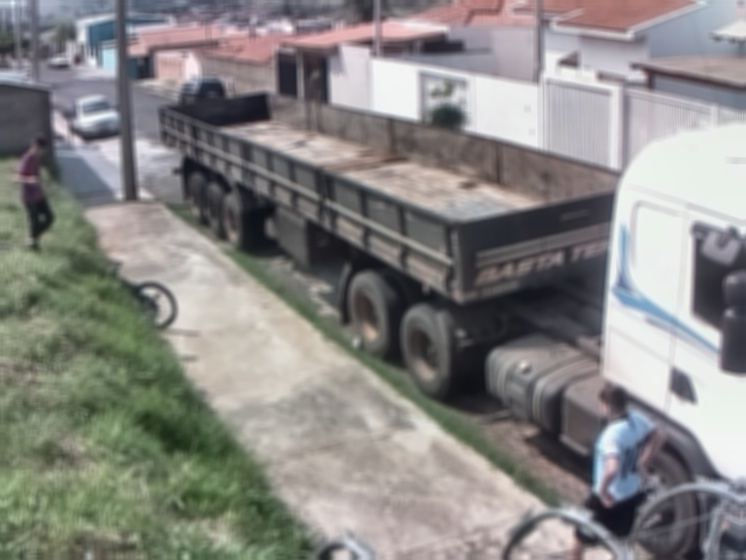person: (566, 381, 668, 560), (9, 134, 60, 260)
